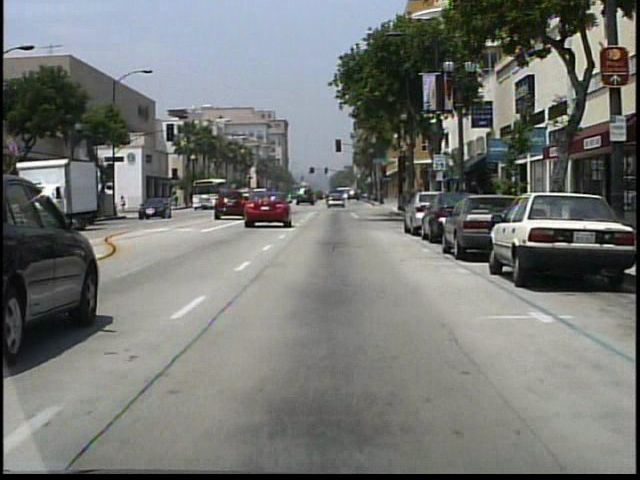person: (120, 196, 130, 217)
